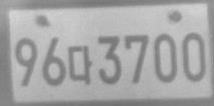0: (152, 32, 178, 83), (182, 31, 206, 82)
3: (97, 35, 122, 84)
6: (40, 36, 66, 86)
7: (123, 34, 149, 83)
9: (14, 36, 38, 87)
다: (67, 44, 93, 85)
